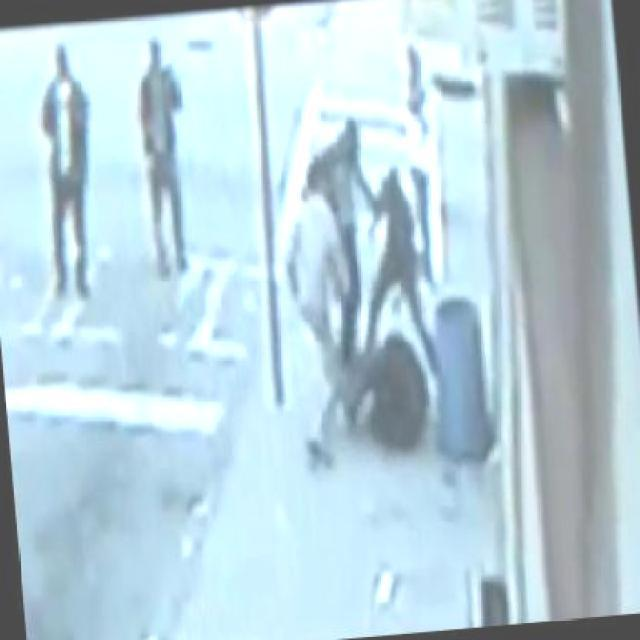fight: (340, 142, 451, 460)
